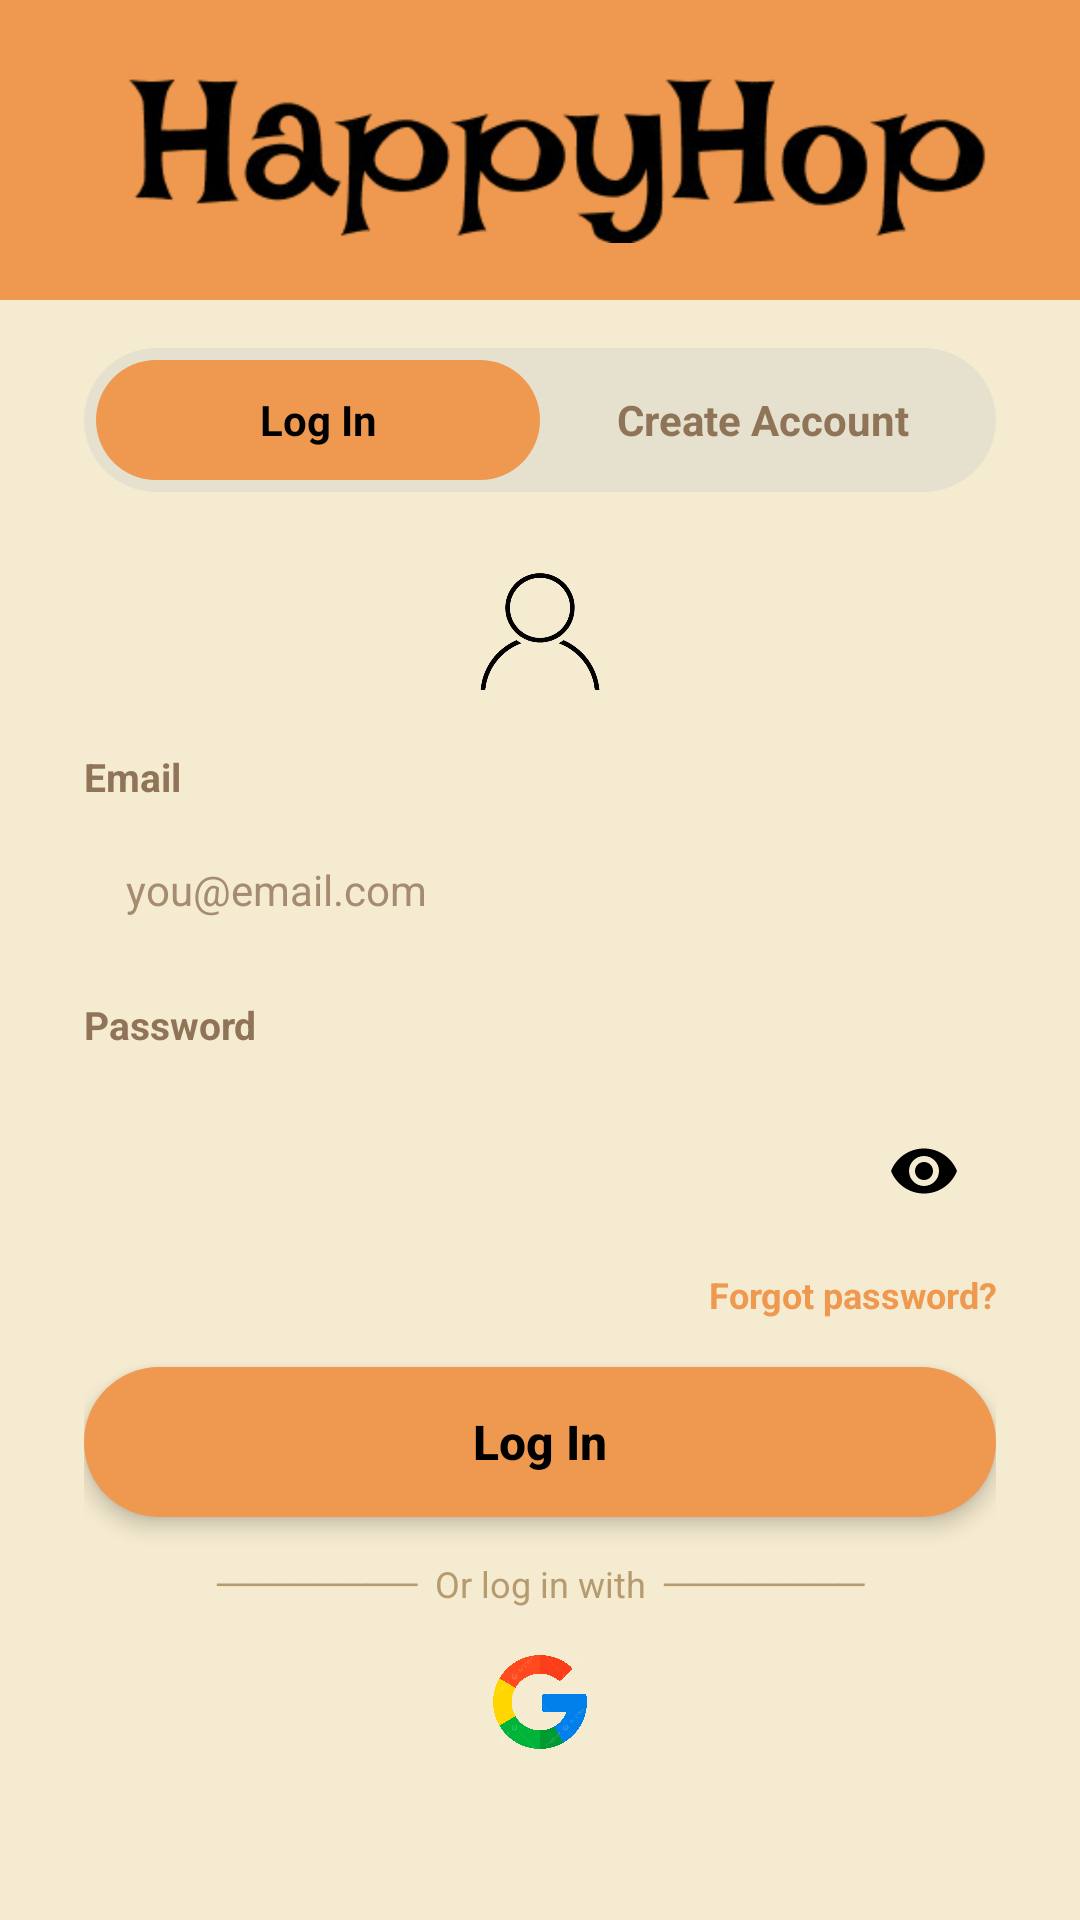

Icon bounding boxes for this 1080 × 1920 phone screenshot, format (x1, y1, x2, y2):
Profile Icon: (480, 573, 600, 690)
